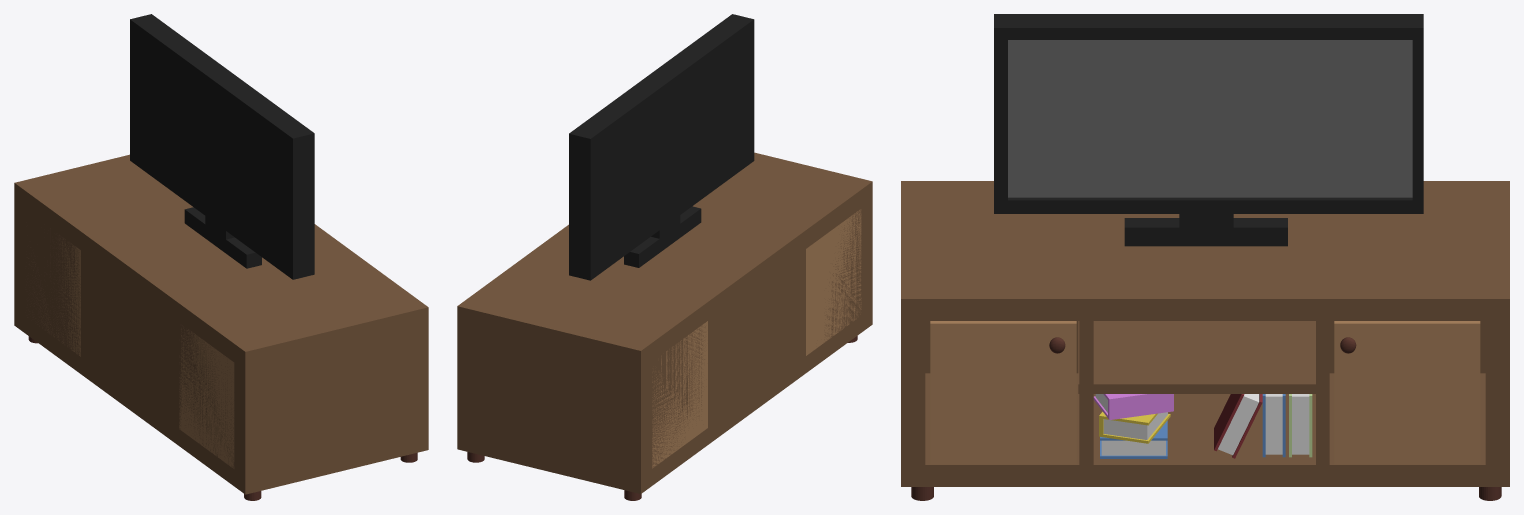
File: mueble tv.fbx
The picture shows the model from 3 angles, left to right: view 1: azimuth 30°, elevation 25°; view 2: azimuth 150°, elevation 25°; view 3: azimuth 270°, elevation 25°; orthographic projection. The views are drawn at different scales.
Parts seen in each view (by area): view 1: mueble, tv, cajon I, cajon D; view 2: mueble, tv, cajon I, cajon D; view 3: mueble, tv, cajon I, cajon D, estanteria, libros.
Part boxes in pixels (box(x1,y1,x2,y2)): mueble: box(14, 154, 428, 494); tv: box(130, 14, 314, 279); cajon I: box(179, 325, 234, 468); cajon D: box(27, 228, 80, 356); mueble: box(457, 152, 872, 493); tv: box(569, 14, 754, 280); cajon I: box(806, 209, 861, 355); cajon D: box(652, 321, 707, 468); mueble: box(901, 181, 1509, 486); tv: box(994, 14, 1423, 246); cajon I: box(930, 321, 1076, 464); cajon D: box(1334, 321, 1480, 464); estanteria: box(1078, 321, 1315, 393); libros: box(1093, 394, 1312, 458).
Bounding box in the file's own units: 209 × 336 × 437.
